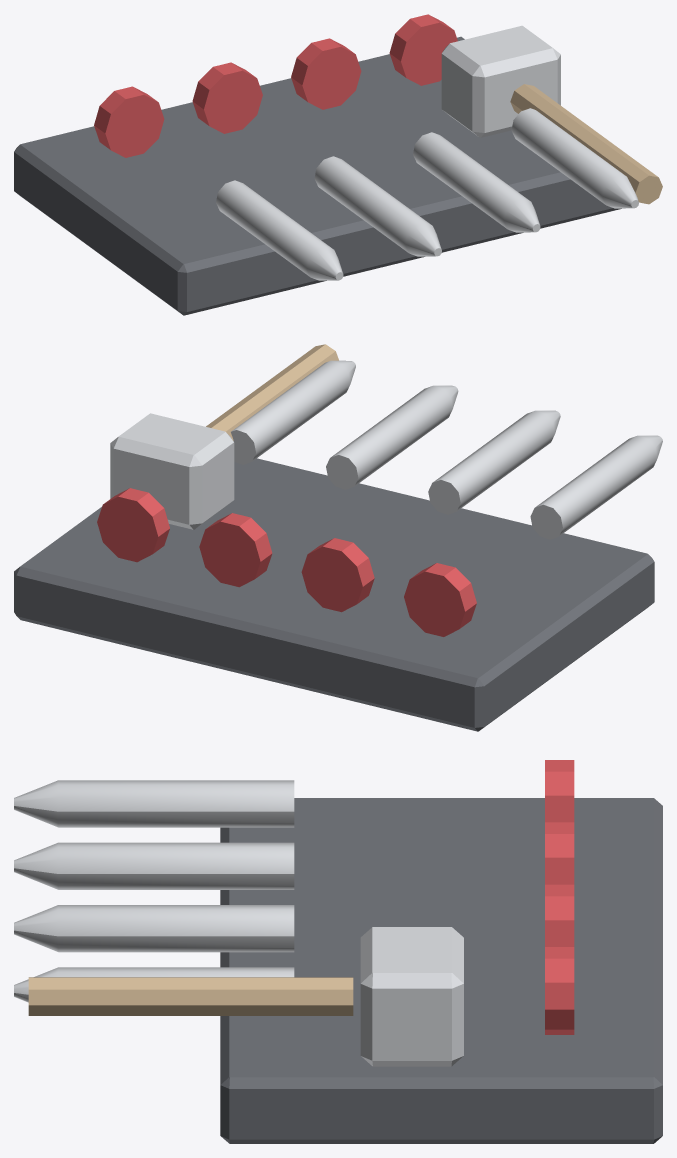
File: ice-hockey-arena-and-locker-room-net-anchor-peg-set-55b2c9f1__33713.glb
The picture shows the model from 3 angles, top to bottom: view 1: azimuth 30°, elevation 25°; view 2: azimuth 150°, elevation 25°; view 3: azimuth 270°, elevation 25°; orthographic projection. The views are drawn at different scales.
Parts seen in each view (by area): view 1: net-anchor-peg-set; view 2: net-anchor-peg-set; view 3: net-anchor-peg-set.
Boxes of the visible parts, x1,y1,x2,y2 form: net-anchor-peg-set: [14, 14, 662, 315]; net-anchor-peg-set: [14, 344, 662, 731]; net-anchor-peg-set: [14, 760, 662, 1143].
Bounding box in the file's own units: 0.46 × 0.12 × 0.44.
